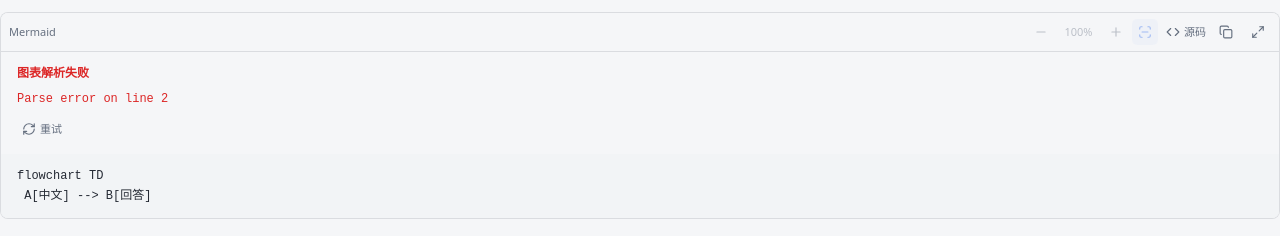
Mermaid reading controls › keeps a failed diagram source copyable and supports retry
The width and height of the screenshot is (1280, 236).
Check: the text "图表解析失败" is shown, box [17, 64, 89, 81]
Click the button named "复制图表源码": (1228, 32) [1214, 19, 1242, 45]
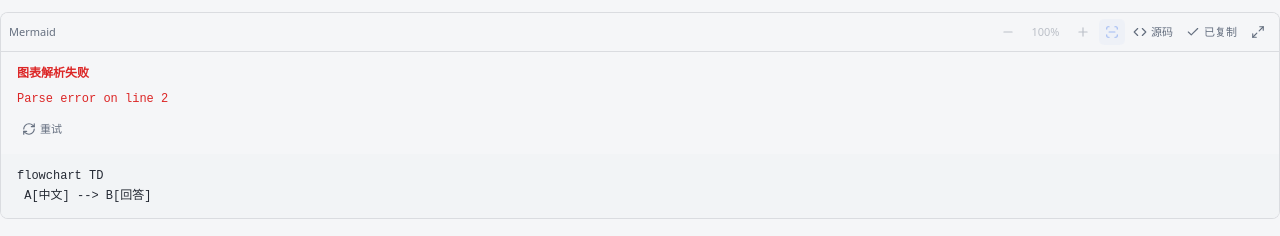
Click the button "重试": (42, 129) [17, 116, 67, 142]
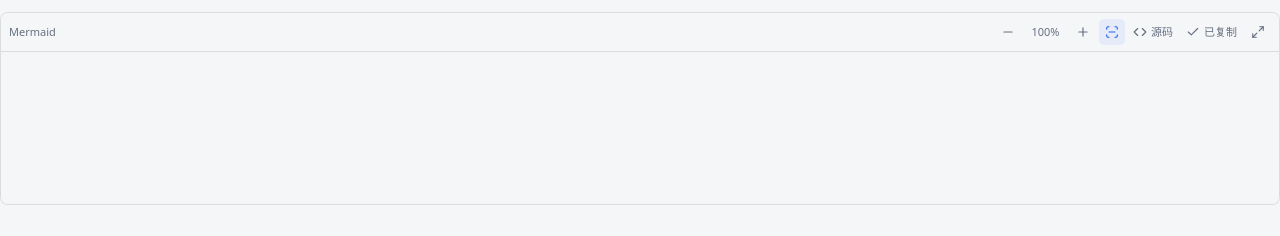
Check: the text "图表解析失败" is gone
